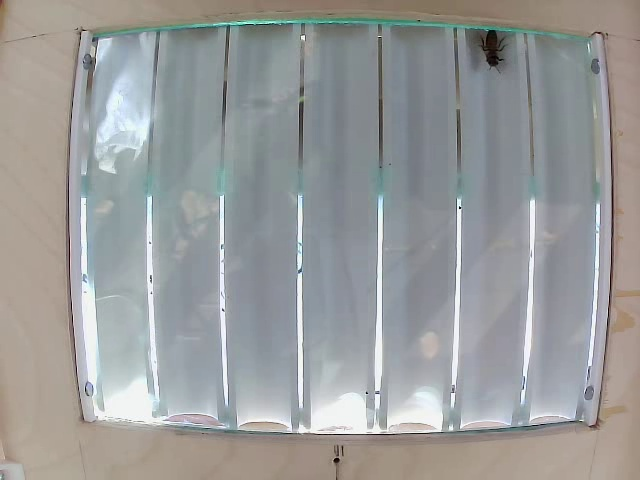bee: (474, 27, 507, 70)
